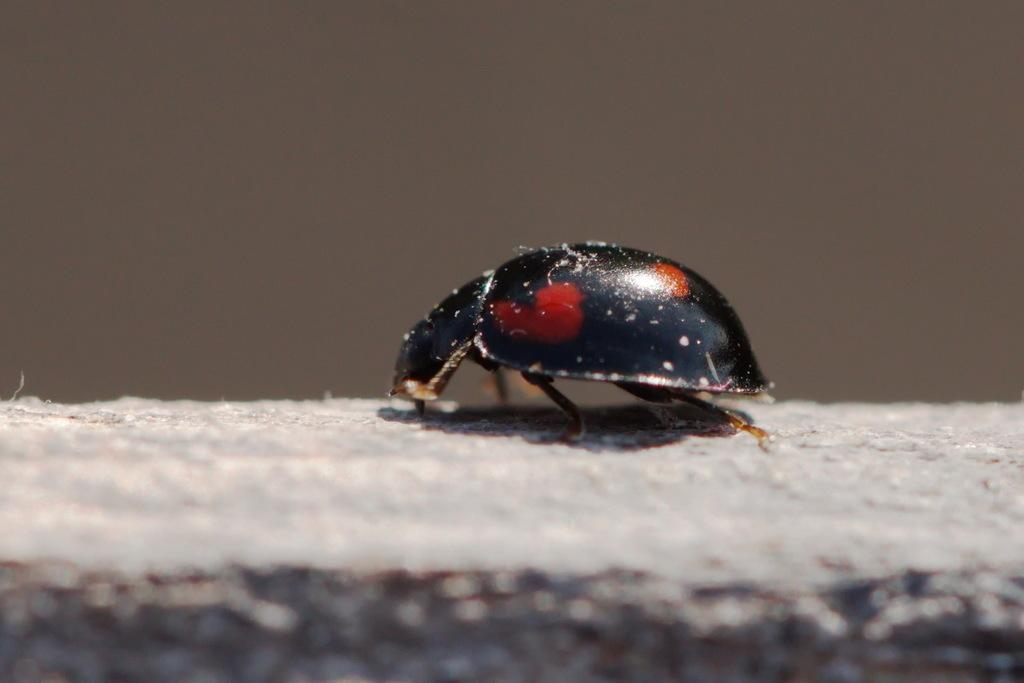ladybug: (387, 241, 775, 453)
